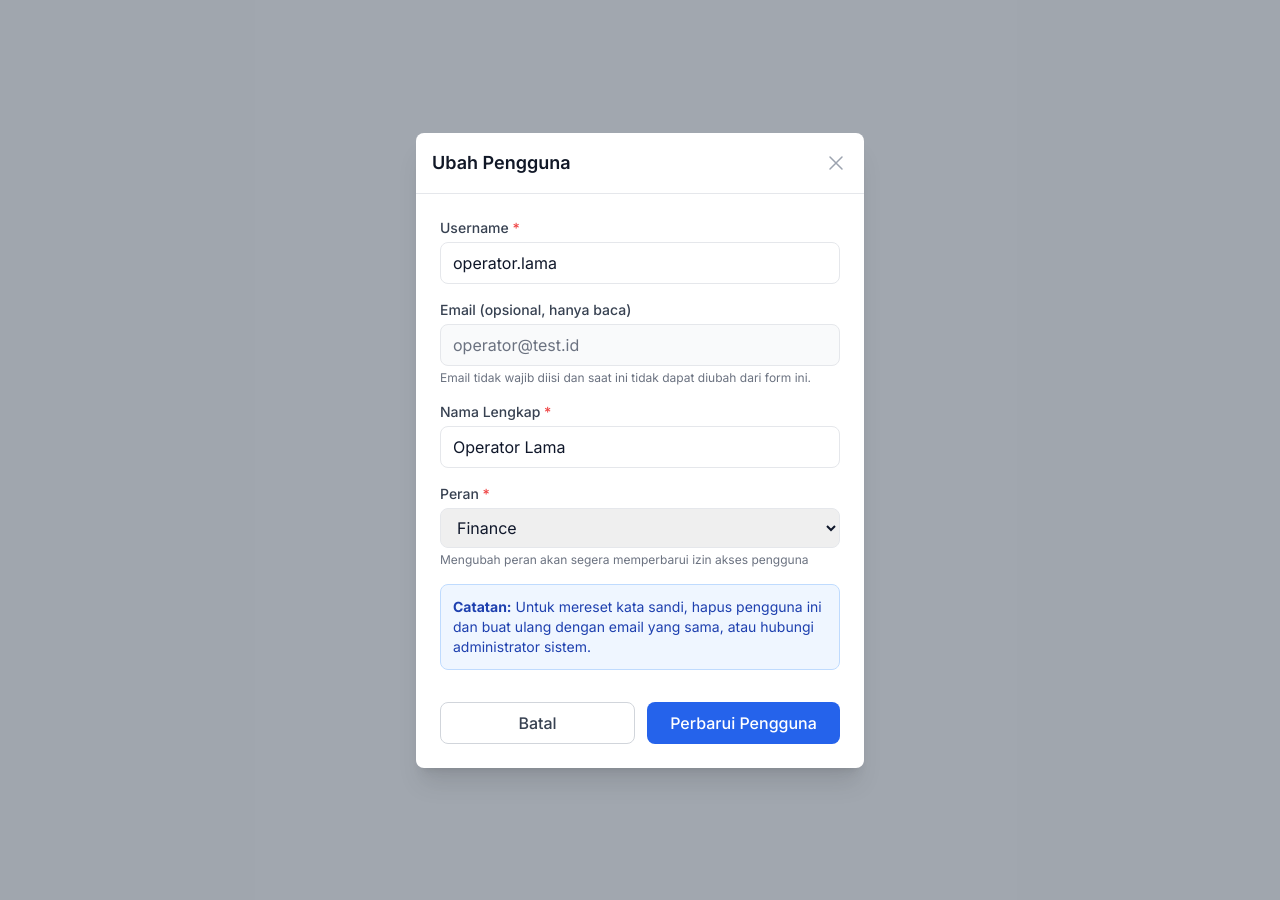
Test case: User management username validation › shows inline username error in edit modal when username already exists
Replace the text in the field labelled "Username *" with "operator.baru": (640, 262) [440,242,840,284]
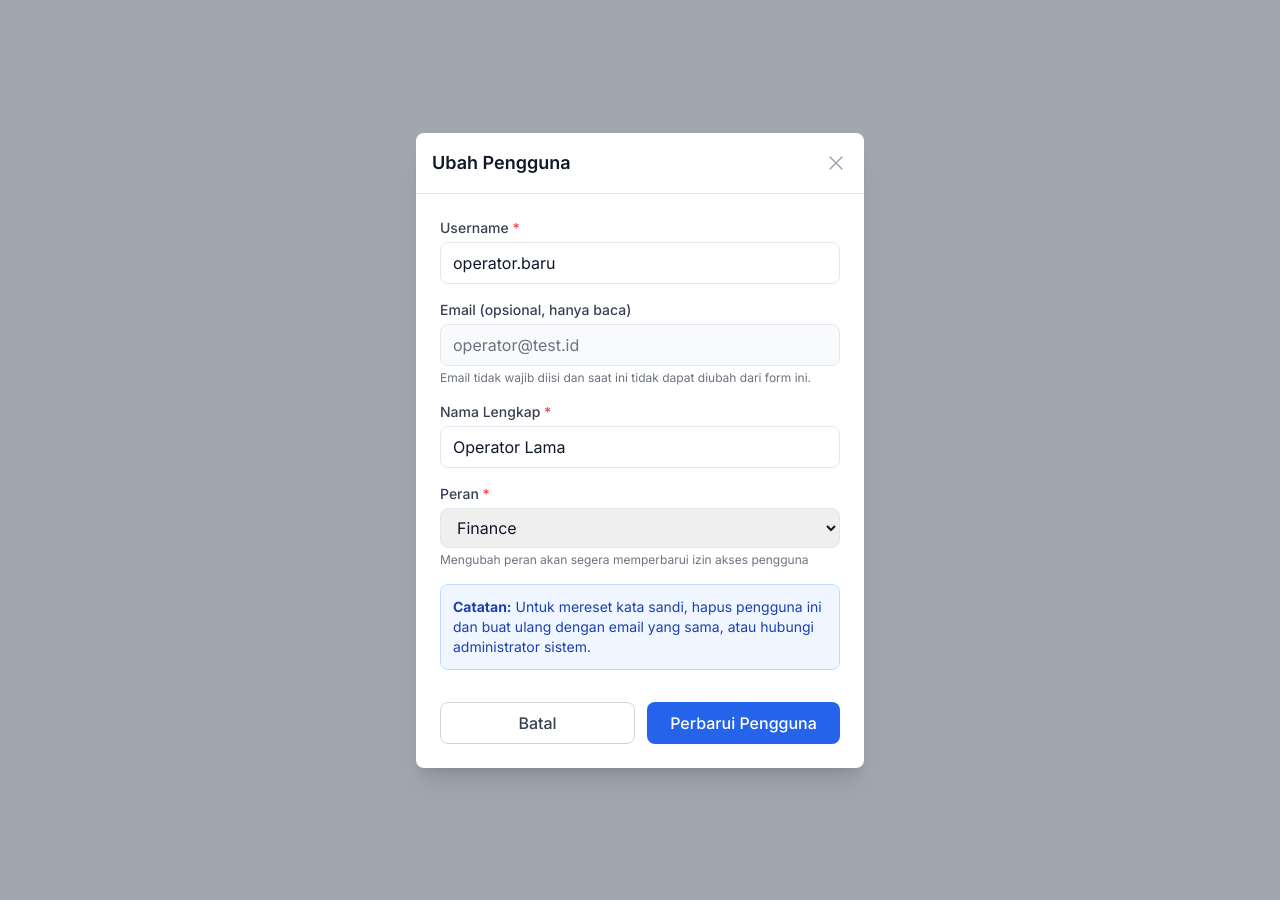
Click the button "Perbarui Pengguna": (744, 722) [647,702,840,744]
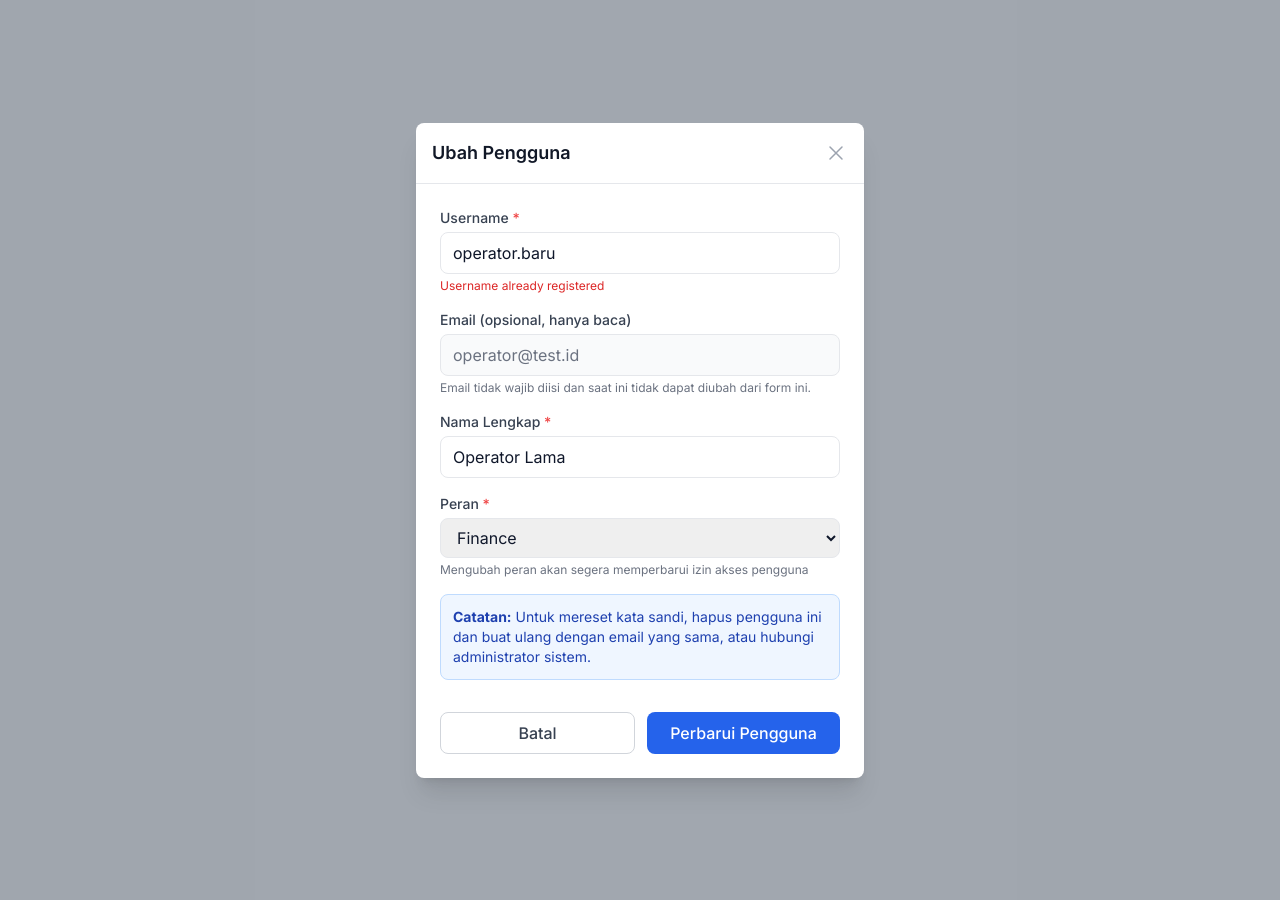
Now the text "Username already registered" is shown, box [440,278,604,292]
